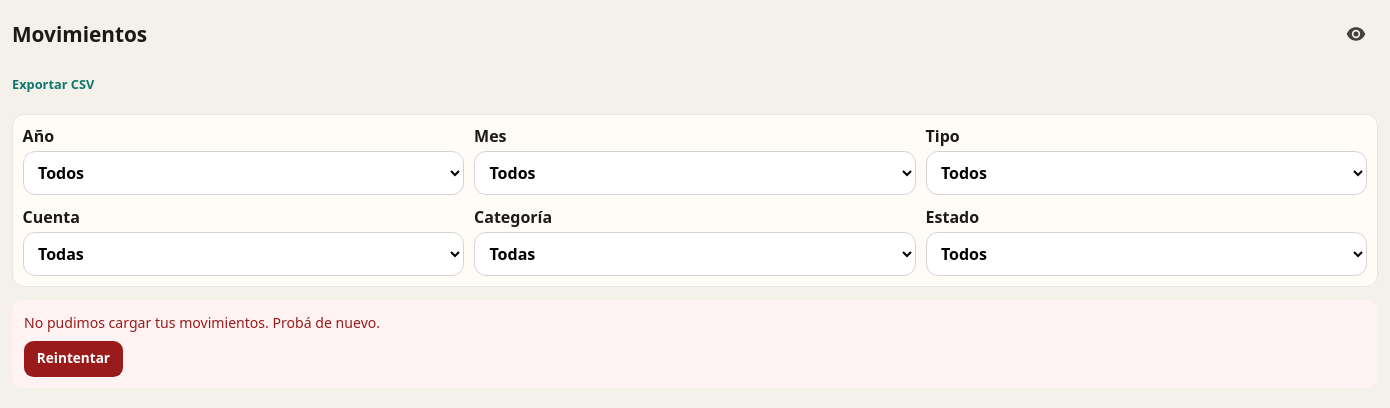
TransactionsPage › recovers from a list error without raw codes
Expected: the text "No pudimos cargar tus movimientos. Probá de nuevo." is shown, [24,312,380,333]
Click the button "Reintentar" at (73, 359), box [24,341,123,377]
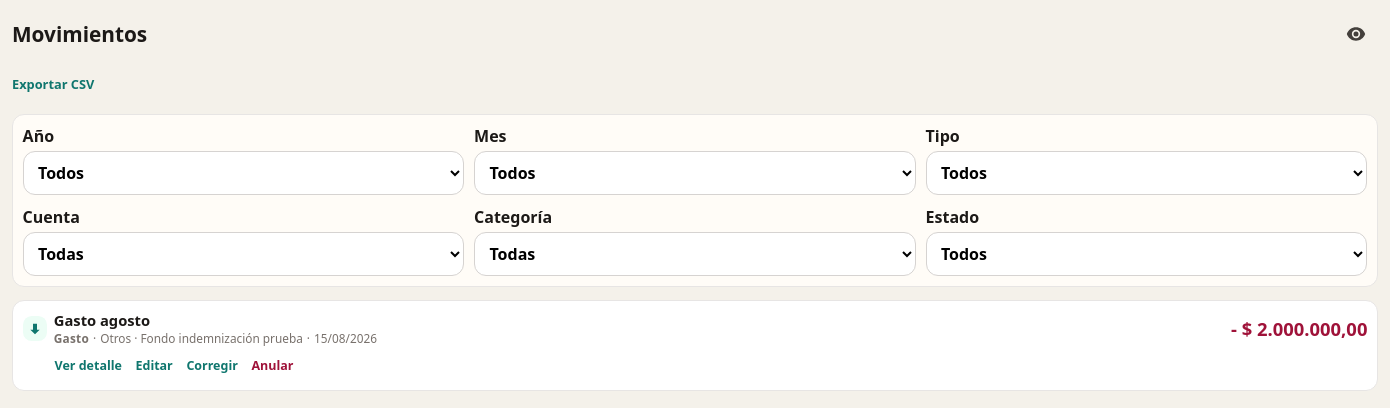
Now the text "Gasto agosto" is shown, box [54,310,150,330]
